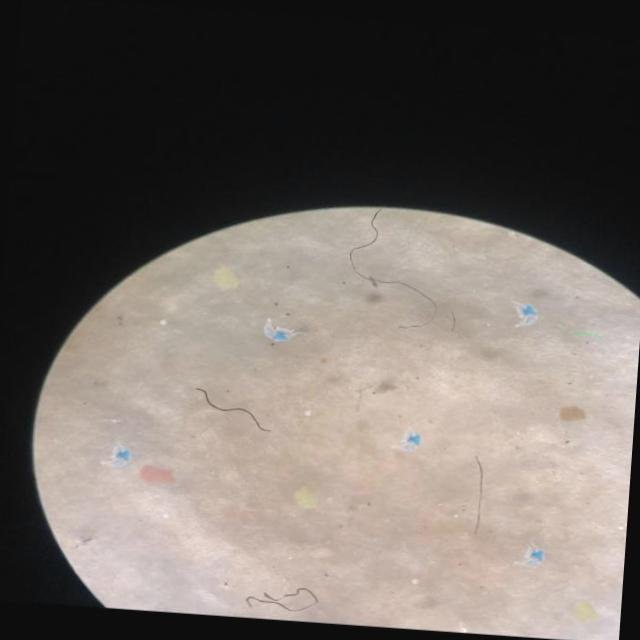fiber: (349, 209, 434, 308), (198, 388, 265, 430), (245, 587, 316, 610), (474, 456, 484, 530)
film: (264, 318, 290, 340), (518, 302, 536, 322), (111, 447, 129, 465), (403, 432, 419, 449), (528, 547, 543, 563)
fragment: (213, 266, 237, 289), (141, 464, 172, 481), (574, 600, 596, 619), (294, 488, 315, 507), (560, 406, 585, 421)
pellet: (412, 578, 419, 583), (160, 319, 166, 324), (162, 513, 168, 517), (304, 410, 309, 414)
